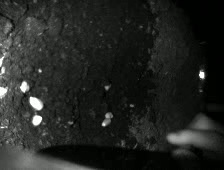corn: (29, 97, 43, 110), (32, 115, 42, 126), (101, 118, 112, 127), (105, 111, 113, 118), (104, 84, 110, 91)
